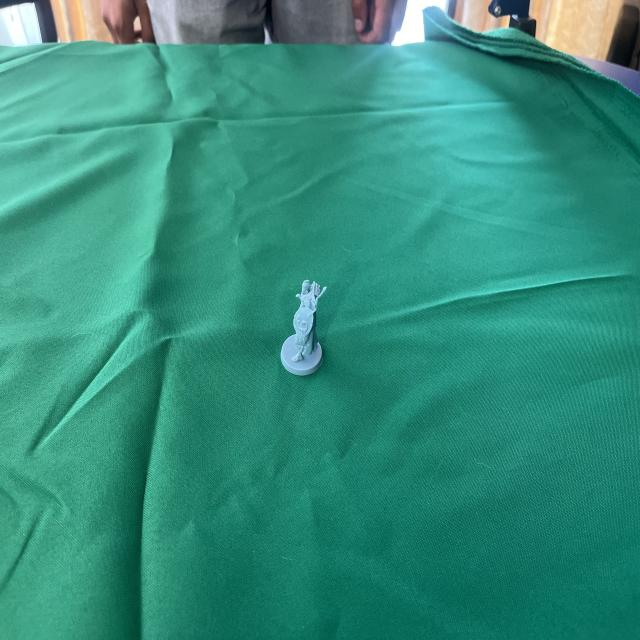isis_follower: (279, 274, 334, 384)
